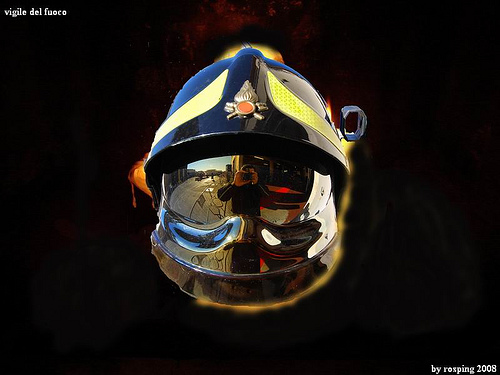helmet: (146, 66, 360, 286)
